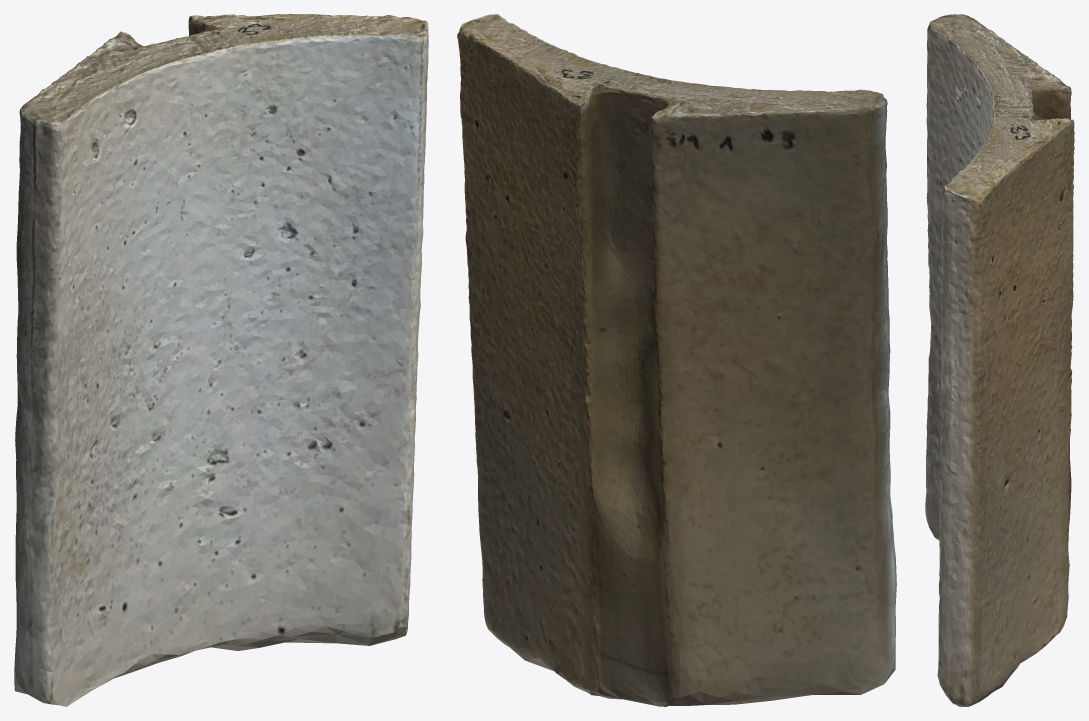
The model's file is Pixel 33.glb.
The picture shows the model from 3 angles, left to right: view 1: azimuth 30°, elevation 25°; view 2: azimuth 150°, elevation 25°; view 3: azimuth 270°, elevation 25°; orthographic projection. The views are drawn at different scales.
Bounding box in the file's own units: 0.1736 × 0.2449 × 0.0616.
1 material, 1 textured.
